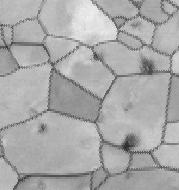good_void: (118, 130, 144, 155), (136, 55, 154, 79), (121, 98, 137, 115), (38, 118, 51, 137), (89, 51, 106, 63), (27, 105, 41, 119), (130, 20, 145, 32), (36, 180, 48, 190), (122, 170, 134, 179)
